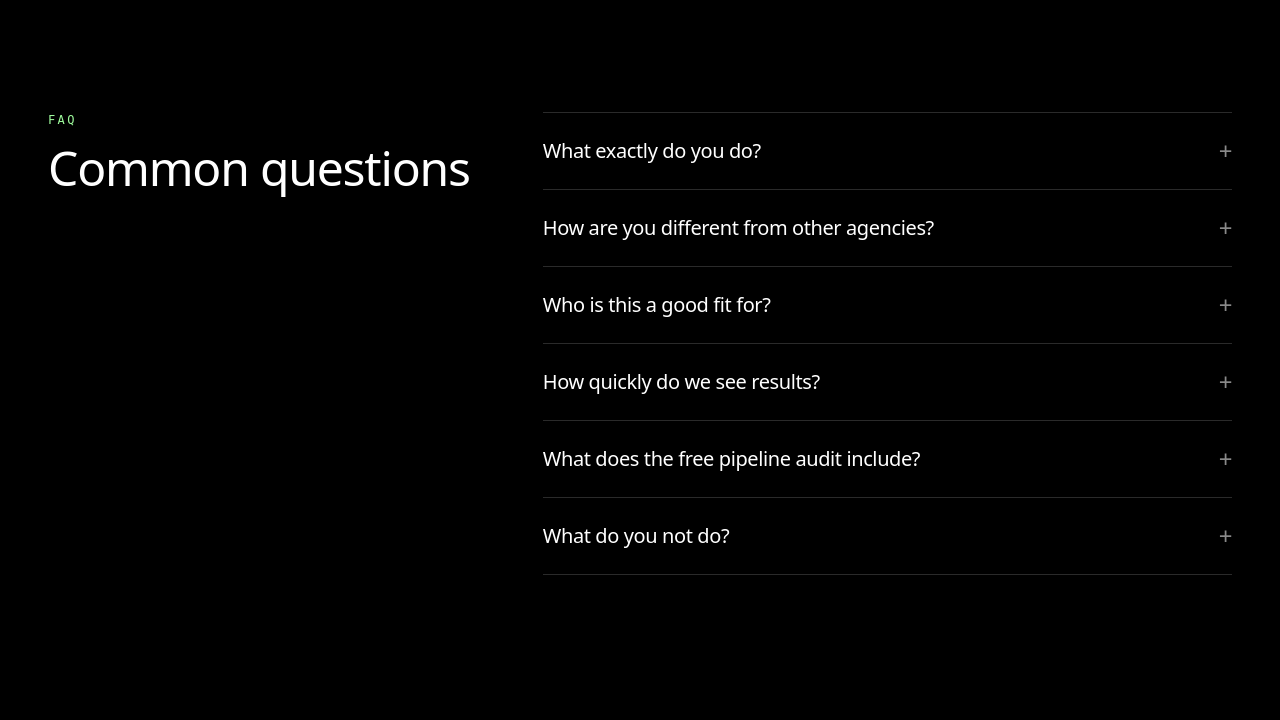
it: Faq › expands and collapses a question on click
What coordinates should you click on to do the following:
click the button "What exactly do you do? +"
I would click on:
 (652, 150)
Its box is [543, 113, 1232, 189].
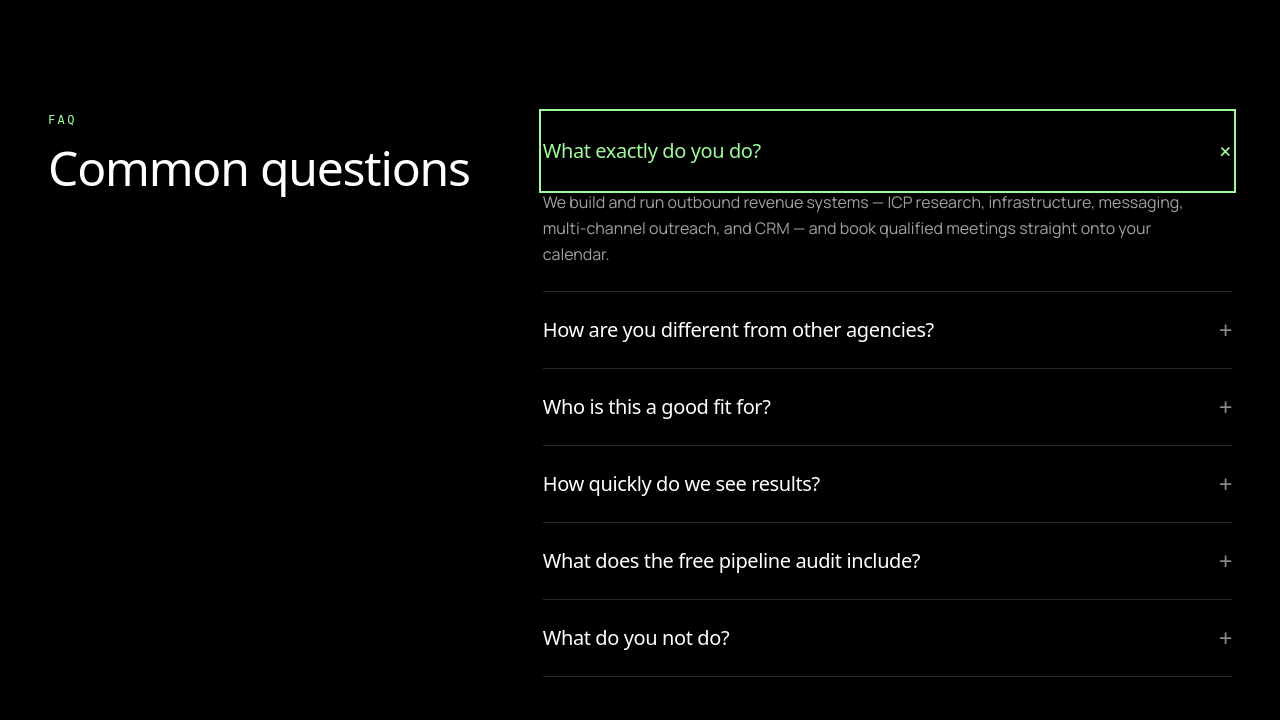
Check: the button "What exactly do you do? +" is expanded
Check: the text "We build and run outbound revenue systems — ICP research, infrastructure, messaging, multi-channel outreach, and CRM — a" is shown, box [543, 191, 1184, 265]
What coordinates should you click on to do the following:
click the button "What exactly do you do? +"
I would click on:
 (652, 150)
Its box is [543, 113, 1232, 189].
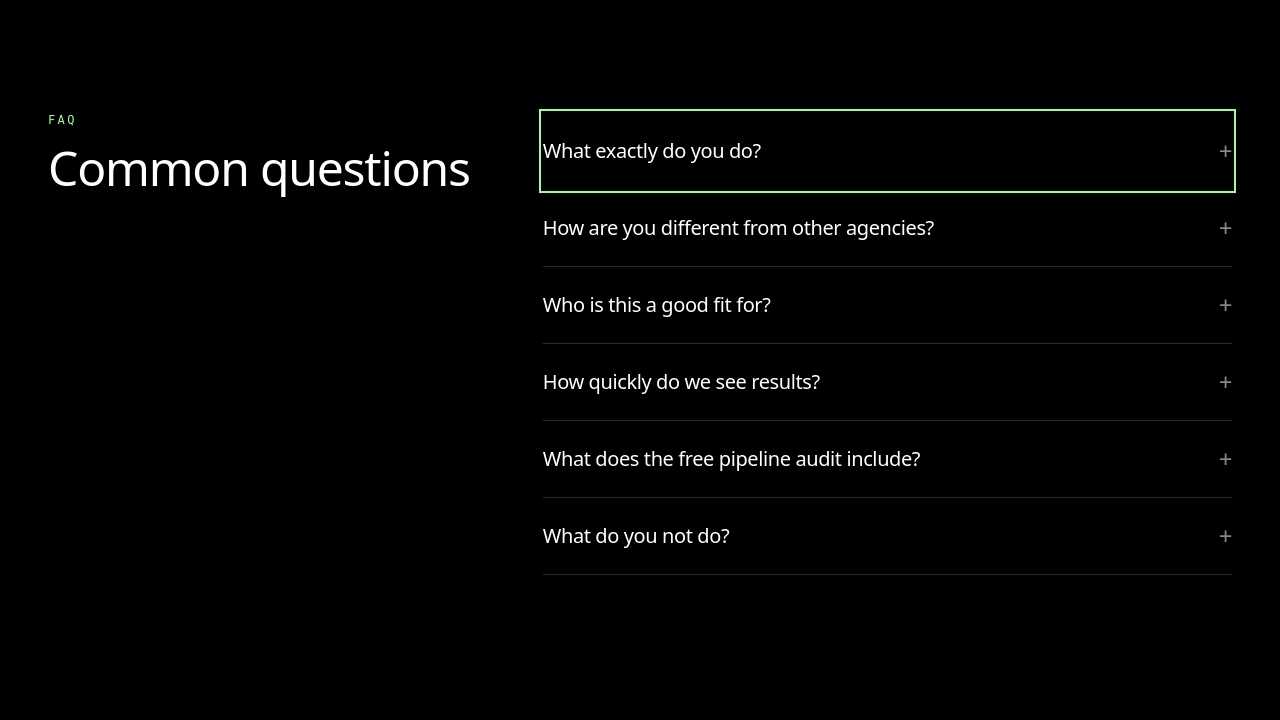
Check: the button "What exactly do you do? +" is collapsed, box [543, 113, 1232, 189]
